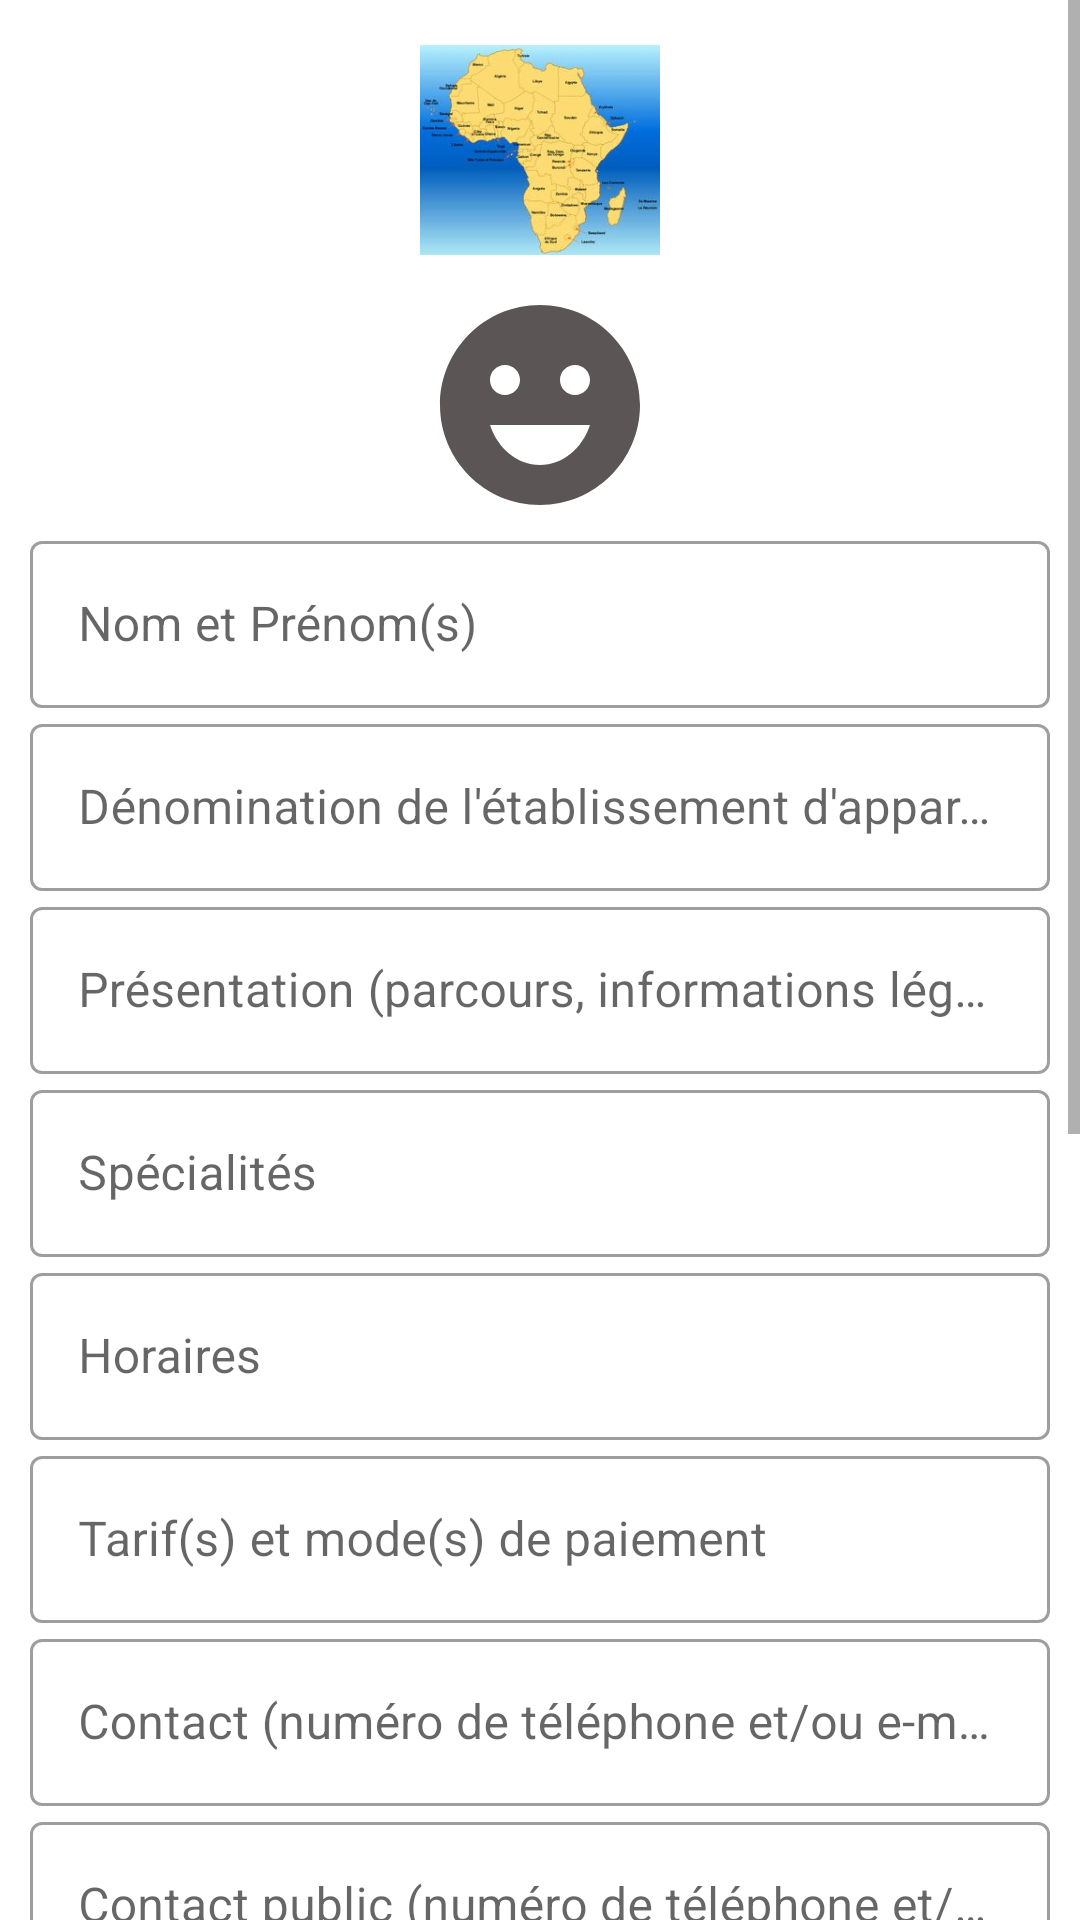

Where to tap for icons on this 1080 x 1920 app screen, as [x,y]:
carte: [540,150]
emoji emotions: [540,405]
